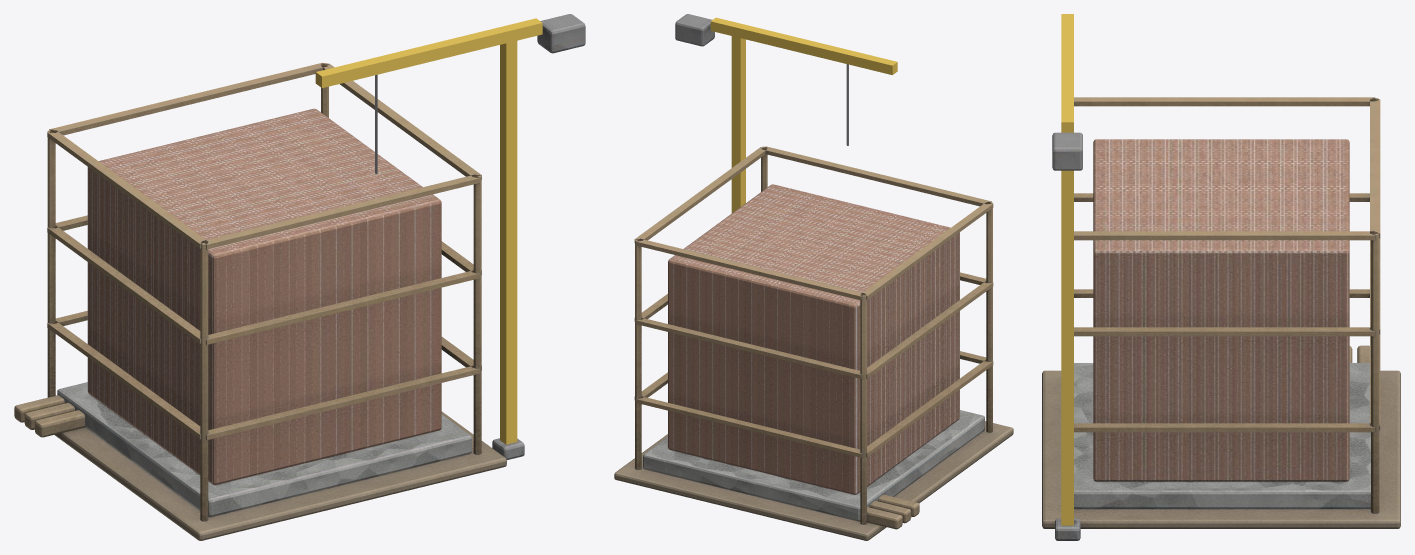
File: baustelle3.glb
3 renders of one model, left to right at view 1: azimuth 30°, elevation 25°; view 2: azimuth 150°, elevation 25°; view 3: azimuth 270°, elevation 25°, orthographic. The views are drawn at different scales.
Visible parts, largest first — view 1: baustelle3, baustelle3_details; view 2: baustelle3, baustelle3_details; view 3: baustelle3, baustelle3_details.
Boxes of the visible parts, x1,y1,x2,y2 form: baustelle3: (14, 14, 585, 540); baustelle3_details: (315, 18, 542, 444); baustelle3: (614, 14, 1013, 540); baustelle3_details: (710, 17, 897, 213); baustelle3: (1042, 97, 1400, 540); baustelle3_details: (1061, 14, 1073, 525).
Size of the model in its own units: 0.94 by 0.925 by 0.7.
Materials: 3 (1 with a texture image).
